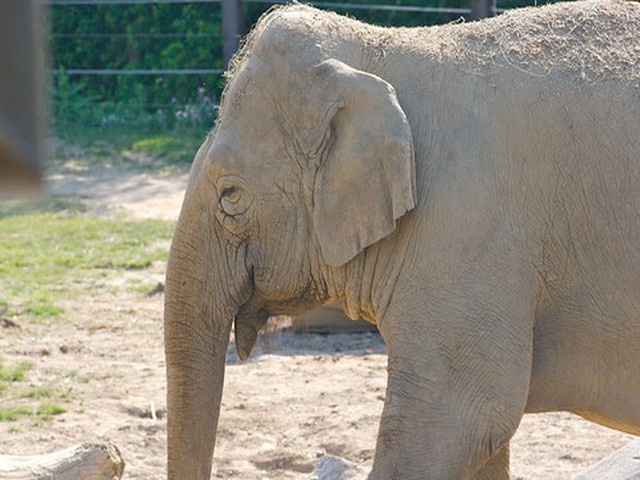Elephant: (162, 1, 640, 478)
